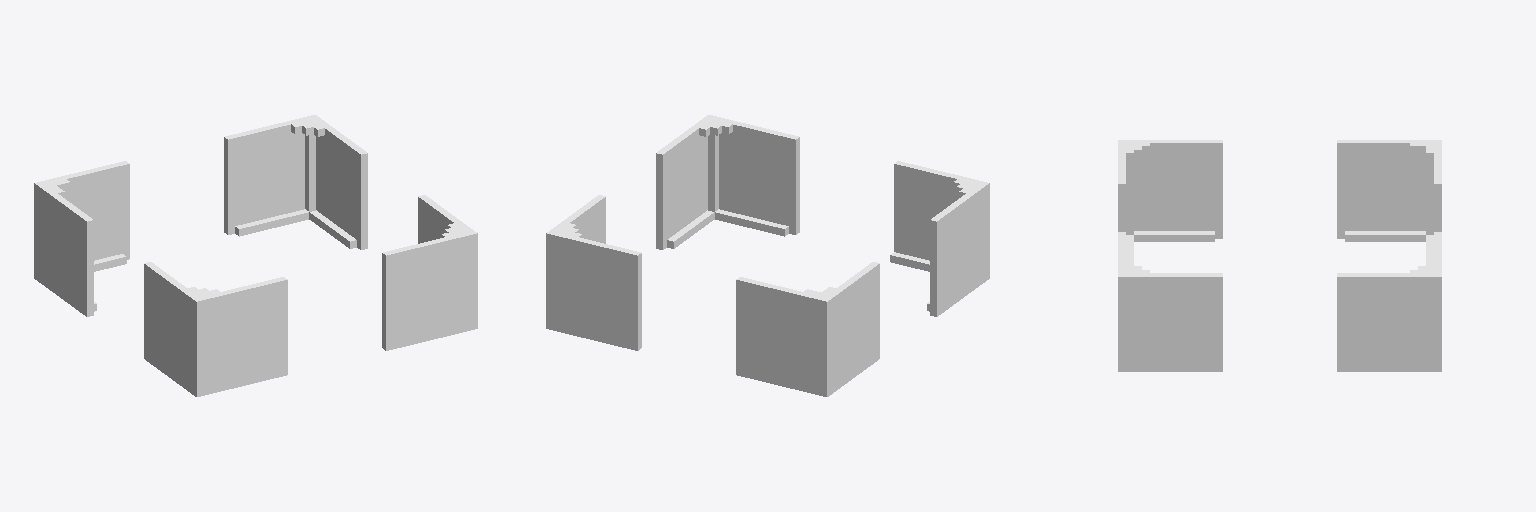
Rendered from room_wall.vox.obj.
3 renders of one model, left to right at view 1: azimuth 30°, elevation 25°; view 2: azimuth 150°, elevation 25°; view 3: azimuth 270°, elevation 25°, orthographic.
Parts seen in each view (by area): view 1: object 1; view 2: object 1; view 3: object 1.
Part boxes in pixels (left/top/right/bottom): object 1: left=34, top=115, right=477, bottom=396; object 1: left=546, top=115, right=989, bottom=396; object 1: left=1118, top=140, right=1441, bottom=371.
Size of the model in its own units: 4 by 1.3 by 4.